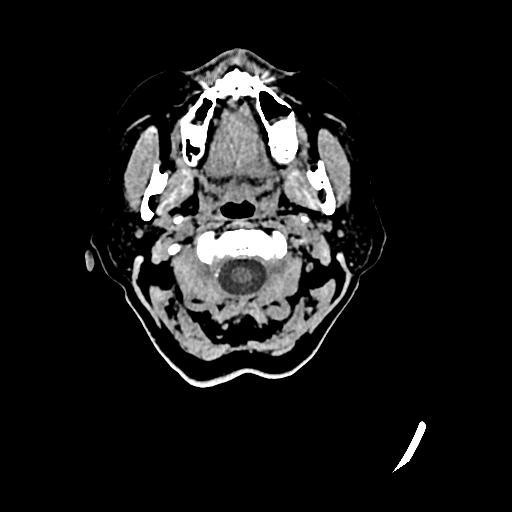Normal_Brain: (78, 55, 398, 399)
